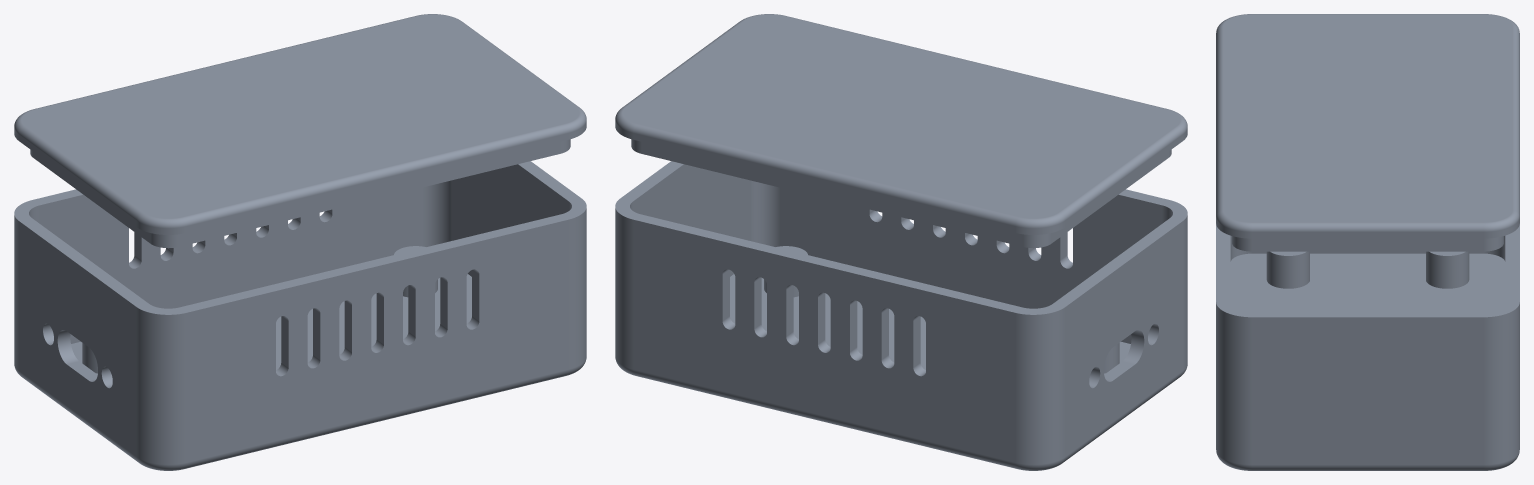
The model's file is step-5.glb.
3 renders of one model, left to right at view 1: azimuth 30°, elevation 25°; view 2: azimuth 150°, elevation 25°; view 3: azimuth 270°, elevation 25°, orthographic.
Parts seen in each view (by area): view 1: face_f7277467e03b22eeef3a, face_38d749f3300c008729d3, face_29af3bb6c4311d1258e0, face_38c325c63db3888e8b3d, face_8ae94c1f7d0a9e66d1f9, face_4668c5ffcd0d728ce001, face_6a217752b0c42edc0aa3, face_7af9a4509d5d8a3b51e3, face_32e3d20472e4e1a9567f, face_c35c8bf9dcc2b3c32720, face_175f7b1f3dd63deb633b, face_bc76a13d16a970b63849 (+8 smaller); view 2: face_f7277467e03b22eeef3a, face_4bc607b143643134fda7, face_b9d7b505d2d50ebef19e, face_38c325c63db3888e8b3d, face_fd40d69dbfc97b0ae30c, face_4668c5ffcd0d728ce001, face_6a217752b0c42edc0aa3, face_0cc87bea7a923aeda582, face_b965c713a36a0824099b, face_b7d12cd943e777221633, face_d2f2e92f789a5da8d26c, face_0a83f1b7115055c8b5fd (+8 smaller); view 3: face_f7277467e03b22eeef3a, face_f9e02b68c5aadb2a0dd7, face_1b3d598492a9639bbd0c, face_c35c8bf9dcc2b3c32720, face_b7d12cd943e777221633, face_4668c5ffcd0d728ce001, face_07b407f7e8472d596889, face_13922978336fa3530d55, face_8ff70ed42a7977d22eb0, face_73534dd4976271c3e973, face_32e3d20472e4e1a9567f, face_b965c713a36a0824099b (+5 smaller).
Boxes of the visible parts, x1,y1,x2,y2 form: face_f7277467e03b22eeef3a: (21, 14, 579, 218); face_38d749f3300c008729d3: (186, 220, 568, 462); face_29af3bb6c4311d1258e0: (40, 188, 421, 343); face_38c325c63db3888e8b3d: (19, 221, 136, 456); face_8ae94c1f7d0a9e66d1f9: (136, 307, 186, 464); face_4668c5ffcd0d728ce001: (14, 161, 586, 314); face_6a217752b0c42edc0aa3: (451, 164, 568, 276); face_7af9a4509d5d8a3b51e3: (178, 142, 560, 246); face_32e3d20472e4e1a9567f: (183, 124, 568, 225); face_c35c8bf9dcc2b3c32720: (568, 208, 586, 369); face_175f7b1f3dd63deb633b: (186, 133, 568, 232); face_bc76a13d16a970b63849: (185, 369, 568, 468); face_f7277467e03b22eeef3a: (622, 14, 1180, 218); face_4bc607b143643134fda7: (633, 220, 1015, 462); face_b9d7b505d2d50ebef19e: (780, 188, 1161, 343); face_38c325c63db3888e8b3d: (1065, 221, 1182, 456); face_fd40d69dbfc97b0ae30c: (1015, 307, 1065, 464); face_4668c5ffcd0d728ce001: (615, 161, 1187, 314); face_6a217752b0c42edc0aa3: (633, 164, 750, 276); face_0cc87bea7a923aeda582: (641, 142, 1023, 246); face_b965c713a36a0824099b: (633, 124, 1018, 225); face_b7d12cd943e777221633: (615, 208, 633, 369); face_d2f2e92f789a5da8d26c: (633, 133, 1015, 232); face_0a83f1b7115055c8b5fd: (633, 369, 1016, 468); face_f7277467e03b22eeef3a: (1223, 14, 1512, 222); face_f9e02b68c5aadb2a0dd7: (1252, 317, 1483, 464); face_1b3d598492a9639bbd0c: (1230, 253, 1505, 311); face_c35c8bf9dcc2b3c32720: (1216, 302, 1252, 464); face_b7d12cd943e777221633: (1483, 302, 1519, 464); face_4668c5ffcd0d728ce001: (1216, 224, 1519, 317); face_07b407f7e8472d596889: (1252, 238, 1483, 251); face_13922978336fa3530d55: (1252, 222, 1483, 231); face_8ff70ed42a7977d22eb0: (1252, 464, 1483, 470); face_73534dd4976271c3e973: (1252, 232, 1483, 238); face_32e3d20472e4e1a9567f: (1216, 27, 1223, 215); face_b965c713a36a0824099b: (1512, 27, 1519, 215).
Size of the model in its own units: 0.07 by 0.038 by 0.042.
